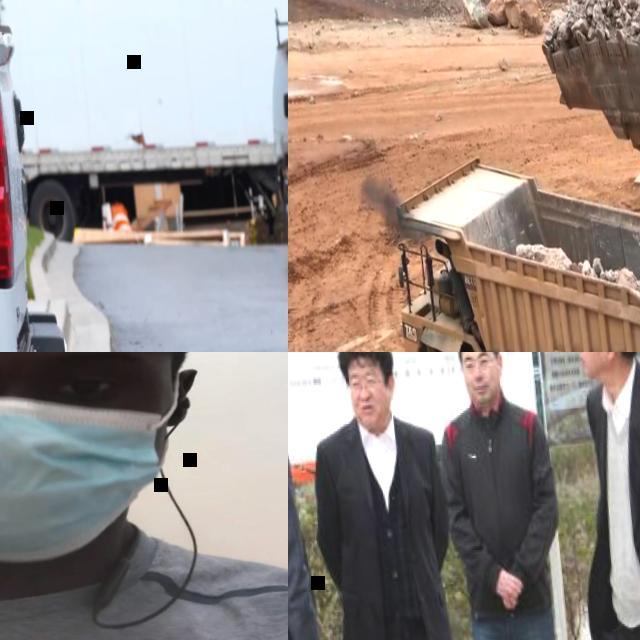machinery: (378, 122, 640, 352), (531, 0, 640, 352)
mask: (0, 382, 189, 576)
no_helmet: (337, 352, 391, 367)
no_mask: (353, 394, 390, 429), (465, 373, 502, 408), (579, 352, 610, 377)
no_vest: (0, 509, 288, 640), (325, 420, 451, 640), (450, 404, 550, 609), (585, 370, 640, 632)
person: (0, 352, 288, 640), (296, 352, 482, 640), (426, 352, 593, 640), (572, 352, 640, 640)
safety_cone: (108, 202, 130, 235)
vehicle: (0, 0, 145, 352), (259, 4, 288, 282)
